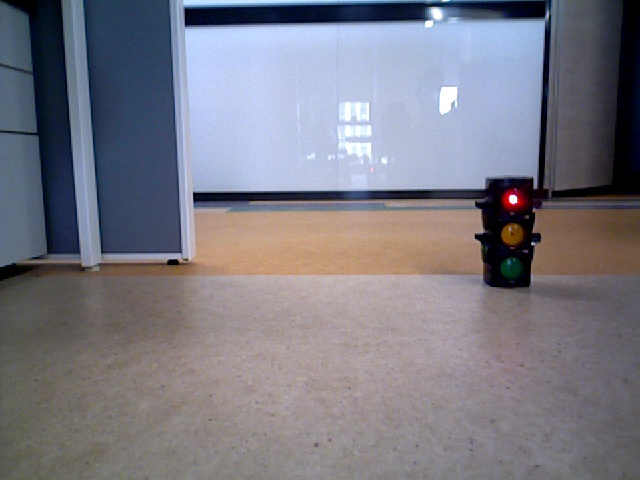red: (489, 178, 531, 288)
